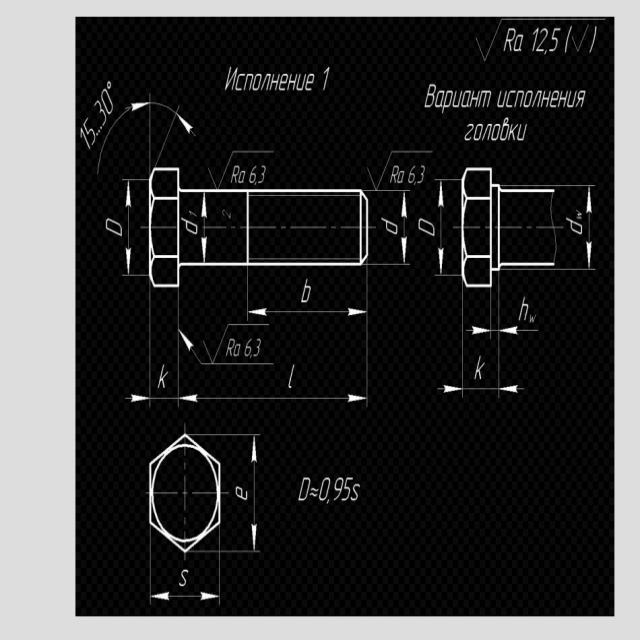marking_line: (123, 95, 197, 167), (181, 393, 369, 405), (252, 305, 369, 321), (434, 384, 529, 400), (247, 438, 260, 549), (123, 181, 135, 277), (467, 325, 542, 340), (435, 182, 446, 276), (177, 325, 201, 365), (398, 193, 411, 266), (585, 186, 595, 269), (155, 590, 219, 602), (199, 192, 209, 263), (120, 393, 152, 405)
numeric: (79, 87, 115, 150), (317, 475, 364, 508), (530, 27, 565, 58), (230, 164, 273, 187), (392, 163, 432, 186), (224, 338, 267, 358), (565, 207, 584, 247), (514, 297, 537, 327), (179, 208, 200, 236), (413, 216, 436, 240), (154, 360, 170, 393), (283, 362, 300, 392), (299, 278, 316, 307), (472, 355, 487, 385), (379, 216, 400, 235), (177, 564, 190, 589), (235, 486, 249, 505), (221, 210, 234, 220)
special_symbol: (468, 19, 504, 62), (364, 147, 393, 190), (208, 146, 236, 190), (203, 324, 232, 364), (567, 26, 594, 55)
